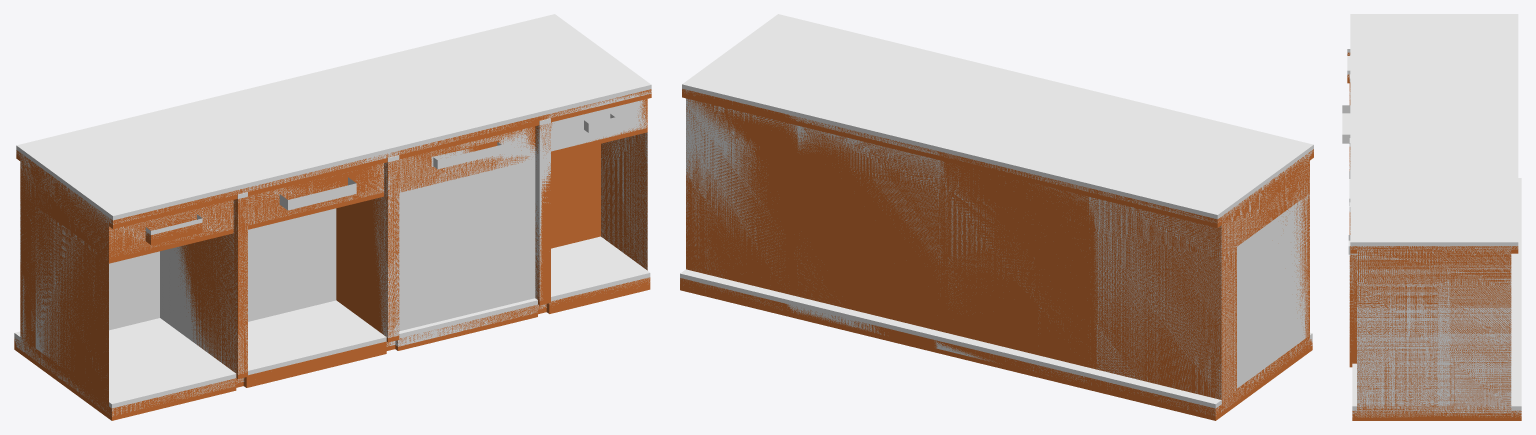
File: table.glb
3 renders of one model, left to right at view 1: azimuth 30°, elevation 25°; view 2: azimuth 150°, elevation 25°; view 3: azimuth 270°, elevation 25°, orthographic. The views are drawn at different scales.
Parts seen in each view (by area): view 1: Cube.001, Cube; view 2: Cube, Cube.001; view 3: Cube.001, Cube.
Part boxes in pixels (left/top/right/bottom): Cube.001: left=14, top=14, right=651, bottom=416; Cube: left=14, top=89, right=651, bottom=420; Cube: left=680, top=89, right=1313, bottom=420; Cube.001: left=680, top=14, right=1313, bottom=415; Cube.001: left=1342, top=14, right=1521, bottom=417; Cube: left=1347, top=52, right=1521, bottom=420.
Size of the model in its own units: 14 by 5.11 by 4.64.
Materials: 2 (1 with a texture image).
